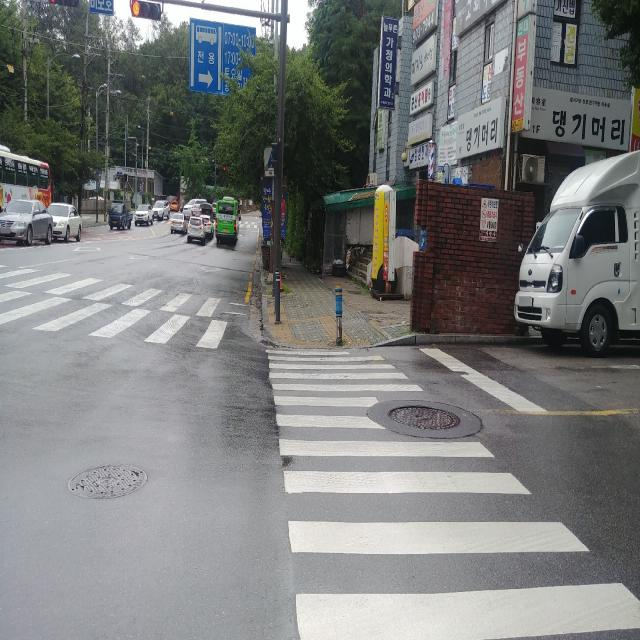횡단보도: (264, 343, 640, 640), (0, 262, 243, 348)
